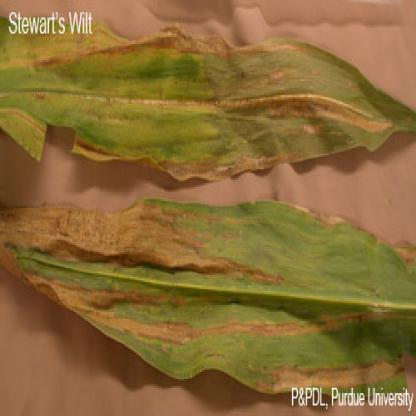Corn leaf blight: (3, 198, 410, 388), (3, 28, 415, 180)
